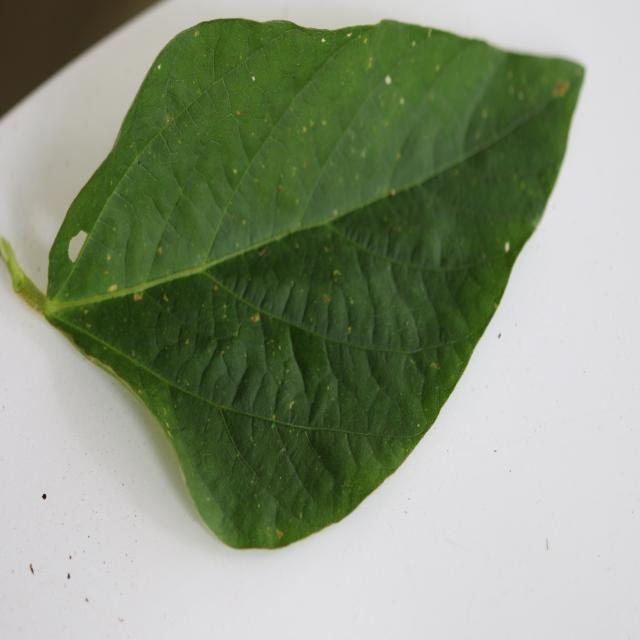Soybean: (5, 15, 587, 553)
downey_mildew: (356, 89, 565, 271), (298, 26, 459, 229), (414, 199, 561, 415), (198, 340, 336, 525), (51, 97, 165, 285), (142, 265, 264, 412), (315, 283, 404, 459), (402, 41, 513, 174), (203, 28, 303, 174), (464, 54, 579, 175), (114, 152, 189, 280), (157, 26, 237, 143), (350, 240, 426, 363), (171, 375, 245, 500), (129, 360, 197, 469), (307, 61, 372, 166), (287, 313, 343, 432), (328, 206, 431, 268), (59, 218, 128, 305), (309, 136, 376, 219), (125, 61, 184, 151), (189, 138, 242, 238), (325, 254, 376, 353), (423, 263, 474, 360), (249, 136, 295, 230), (338, 434, 398, 506), (252, 263, 313, 332), (383, 320, 502, 354), (210, 21, 267, 91), (311, 332, 440, 358), (215, 402, 256, 481), (313, 411, 356, 483), (125, 214, 161, 286), (450, 272, 491, 331), (187, 87, 228, 144), (235, 357, 270, 422), (200, 346, 232, 406), (309, 381, 340, 434), (220, 336, 250, 390), (326, 282, 351, 345), (412, 222, 442, 268), (332, 218, 371, 252), (421, 367, 445, 420), (135, 158, 158, 182)
